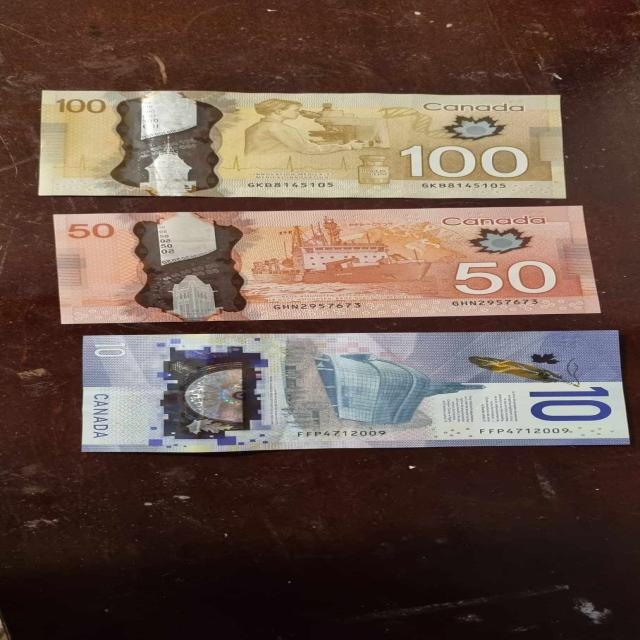10 cad: (71, 334, 633, 449)
100 cad: (43, 84, 574, 203)
50 cad: (55, 216, 611, 319)
